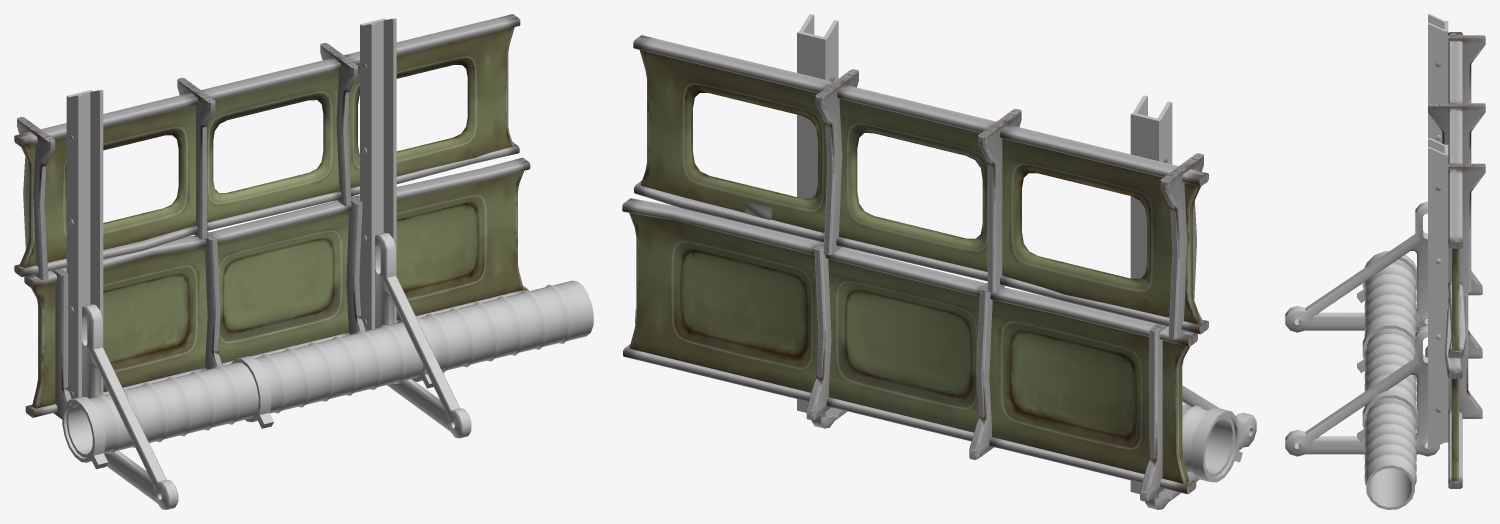
The model's file is HubShelf1.FBX.
The picture shows the model from 3 angles, left to right: view 1: azimuth 30°, elevation 25°; view 2: azimuth 150°, elevation 25°; view 3: azimuth 270°, elevation 25°; orthographic projection. The views are drawn at different scales.
Visible parts, largest first — view 1: HubShelf1_LOD0; view 2: HubShelf1_LOD0; view 3: HubShelf1_LOD0.
Boxes of the visible parts, left/top/right/bottom form: HubShelf1_LOD0: left=14, top=14, right=593, bottom=509; HubShelf1_LOD0: left=622, top=14, right=1256, bottom=509; HubShelf1_LOD0: left=1285, top=14, right=1485, bottom=509.
Size of what is drawn, in the model's own units: 14.93 by 9.81 by 5.71.
